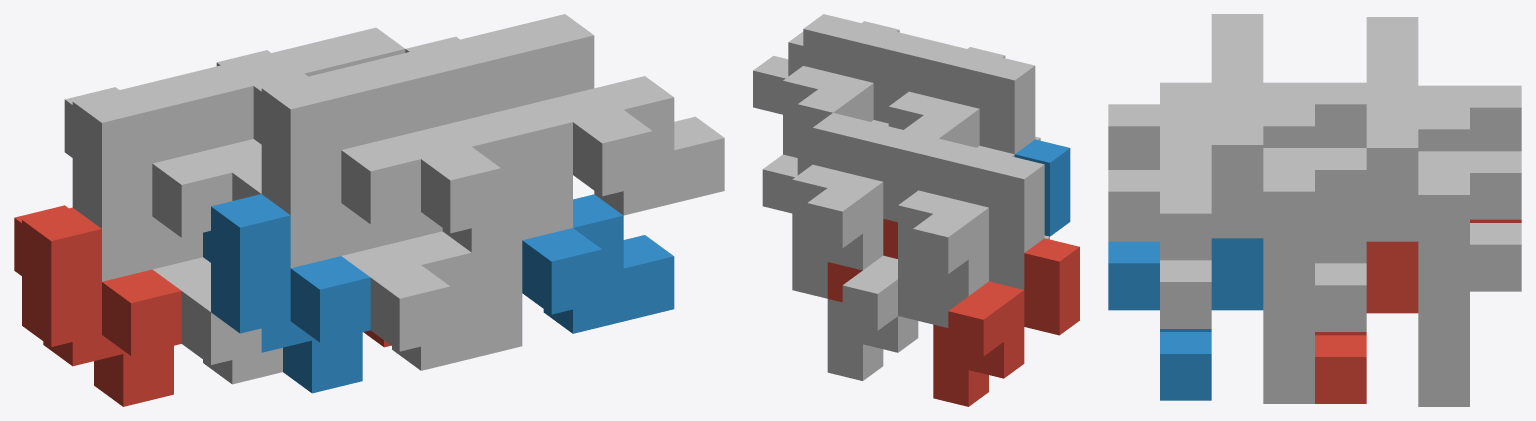
Rendered from tiling.obj.
3 views of the same model, side by side, from view 1: azimuth 30°, elevation 25°; view 2: azimuth 150°, elevation 25°; view 3: azimuth 270°, elevation 25° (orthographic). The views are drawn at different scales.
Visible parts, largest first — view 1: copy_2_domain_8, copy_2_domain_4, copy_1_domain_1, copy_1_domain_2, copy_2_domain_2, copy_1_domain_4, copy_1_domain_3, copy_2_domain_6, copy_2_domain_1, copy_2_domain_3, copy_1_domain_8, copy_1_domain_6 (+2 smaller); view 2: copy_1_domain_1, copy_1_domain_3, copy_1_domain_7, copy_2_domain_8, copy_2_domain_7, copy_1_domain_5, copy_1_domain_4, copy_1_domain_8, copy_2_domain_3, copy_2_domain_4, copy_1_domain_2, copy_2_domain_1 (+1 smaller); view 3: copy_2_domain_8, copy_2_domain_7, copy_1_domain_8, copy_2_domain_6, copy_1_domain_7, copy_2_domain_4, copy_2_domain_5, copy_1_domain_5, copy_1_domain_4, copy_1_domain_3, copy_2_domain_3, copy_1_domain_6.
Boxes of the visible parts, x1,y1,x2,y2 form: copy_2_domain_8: (464, 14, 724, 215); copy_2_domain_4: (312, 51, 572, 252); copy_1_domain_1: (14, 205, 181, 406); copy_1_domain_2: (203, 194, 370, 393); copy_2_domain_2: (290, 203, 522, 370); copy_1_domain_4: (253, 73, 420, 224); copy_1_domain_3: (64, 87, 232, 237); copy_2_domain_6: (522, 194, 674, 333); copy_2_domain_1: (102, 216, 282, 384); copy_2_domain_3: (123, 64, 261, 200); copy_1_domain_8: (405, 36, 572, 187); copy_1_domain_6: (392, 212, 522, 305); copy_1_domain_1: (933, 238, 1079, 406); copy_1_domain_3: (898, 156, 1044, 324); copy_1_domain_7: (792, 130, 938, 298); copy_2_domain_8: (753, 14, 899, 120); copy_2_domain_7: (762, 113, 902, 219); copy_1_domain_5: (827, 255, 918, 380); copy_1_domain_4: (904, 57, 1035, 154); copy_1_domain_8: (783, 31, 928, 157); copy_2_domain_3: (898, 138, 1014, 245); copy_2_domain_4: (888, 40, 1005, 129); copy_1_domain_2: (1014, 139, 1070, 236); copy_2_domain_1: (933, 235, 1049, 327); copy_2_domain_8: (1108, 101, 1314, 328); copy_2_domain_7: (1315, 104, 1469, 331); copy_1_domain_8: (1160, 79, 1366, 331); copy_2_domain_6: (1108, 238, 1263, 400); copy_1_domain_7: (1366, 82, 1521, 335); copy_2_domain_4: (1108, 35, 1314, 169); copy_2_domain_5: (1315, 241, 1418, 403); copy_1_domain_5: (1418, 223, 1521, 406); copy_1_domain_4: (1160, 14, 1366, 147); copy_1_domain_3: (1366, 17, 1521, 151); copy_2_domain_3: (1366, 39, 1469, 151); copy_1_domain_6: (1263, 332, 1314, 403).
Bounding box in the file's own units: 11 × 7 × 8.
